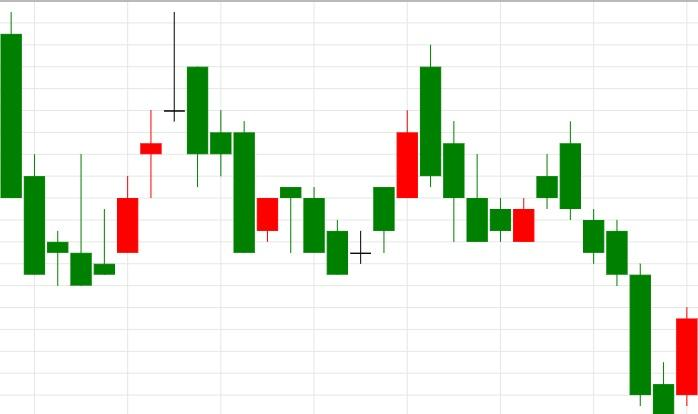bullish_engulfing_rise: (420, 45, 535, 242)
